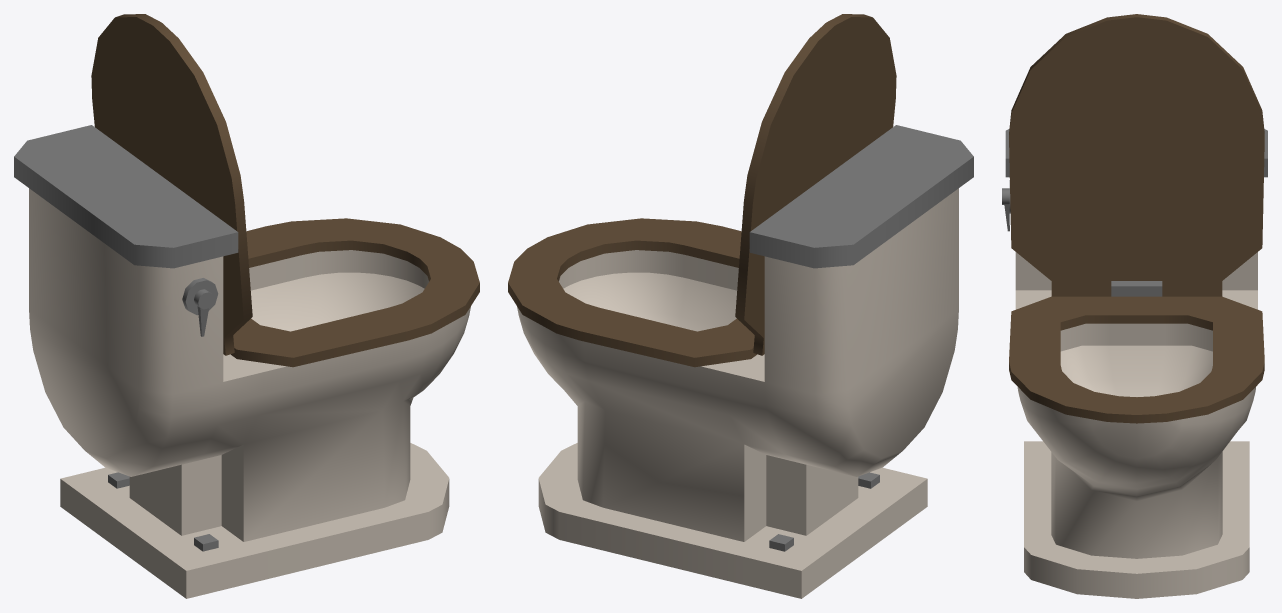
Rendered from S_Toilet.fbx.
3 views of the same model, side by side, from view 1: azimuth 30°, elevation 25°; view 2: azimuth 150°, elevation 25°; view 3: azimuth 270°, elevation 25° (orthographic). The views are drawn at different scales.
Visible parts, largest first — view 1: S_Toilet; view 2: S_Toilet; view 3: S_Toilet.
Part boxes in pixels (left/top/right/bottom): S_Toilet: left=14, top=14, right=479, bottom=598; S_Toilet: left=508, top=14, right=973, bottom=598; S_Toilet: left=1002, top=14, right=1267, bottom=598.
Size of the model in its own units: 93.92 by 121 by 62.56.
